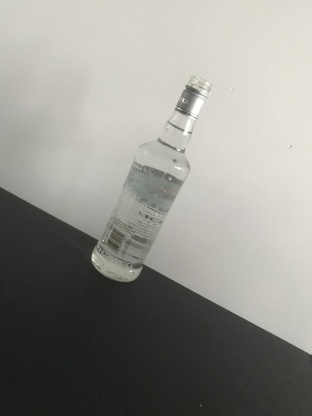nakretka: (173, 72, 213, 121)
